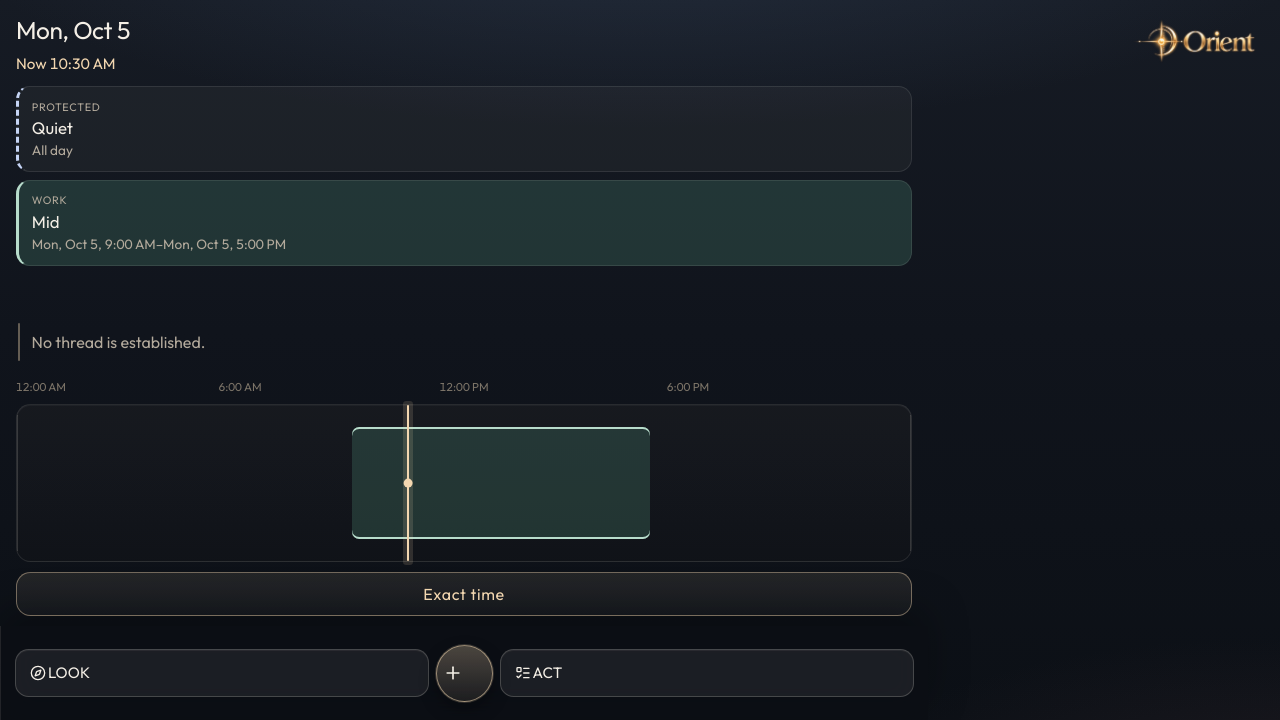
Test: all-day authority reachability › does not offer all-day ↔ timed conversion in FactDetail
Click the button "Protected Quiet All day" at (66, 107), box [16,86,912,172]
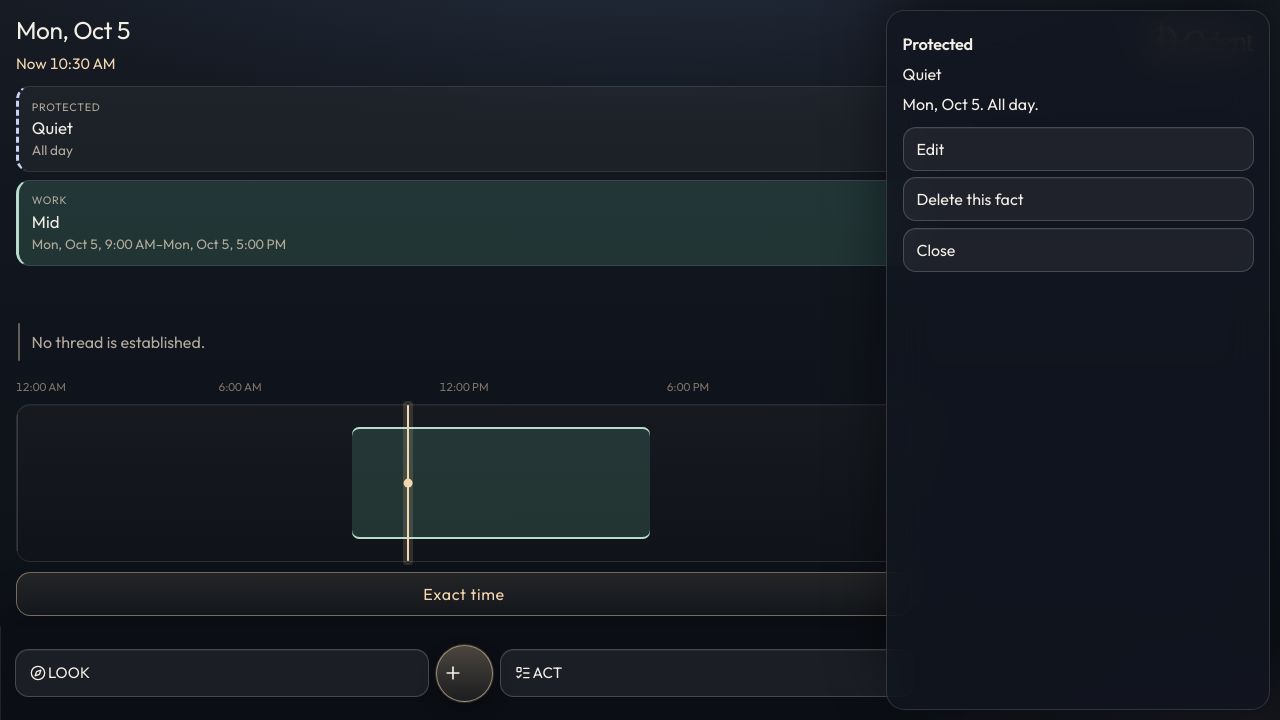
Click the button "Edit" at (930, 149), box [903,127,1254,171]
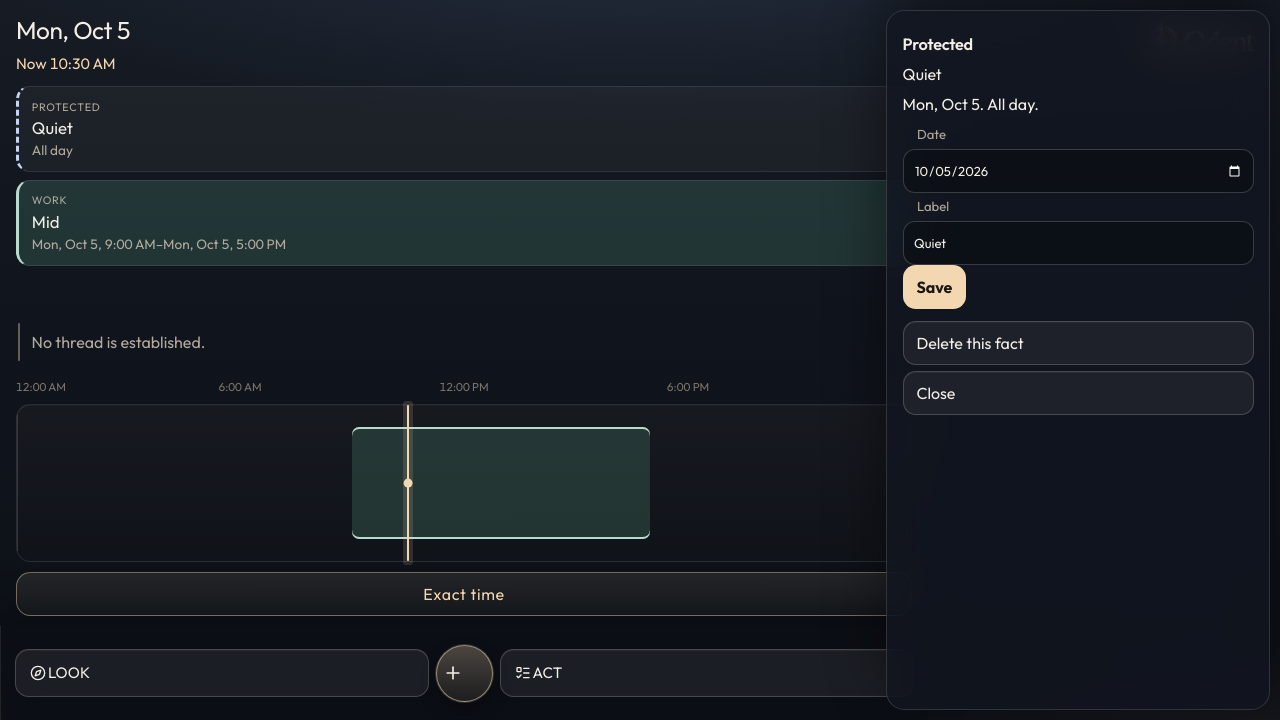
Result: the element showing "Date Label Save" is shown at [903,121,1254,309]
